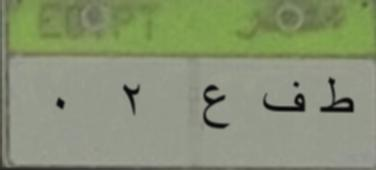0: (49, 85, 71, 121)
2: (118, 79, 148, 126)
Taa: (316, 73, 357, 122)
ain: (200, 78, 233, 138)
faa: (256, 77, 306, 119)
